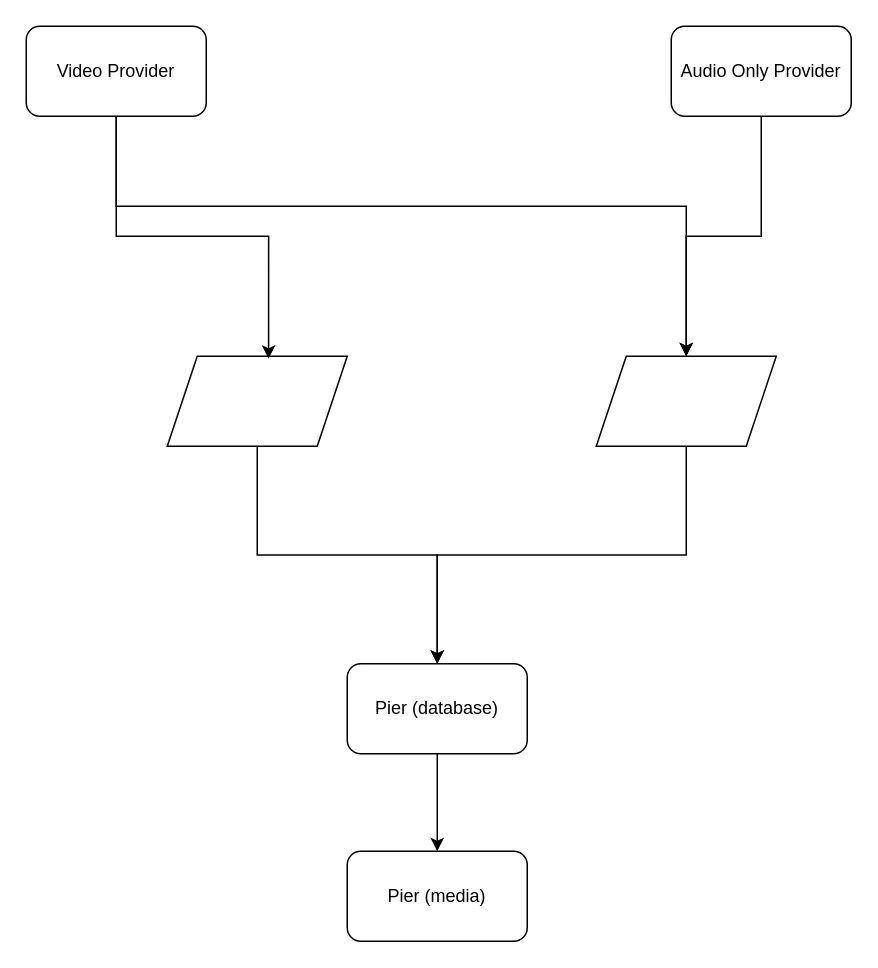
This 878x968 diagram has some shape labels left out. Each missing label, with the box of its shape:
download_audio (Pier): (595, 355, 776, 446)
download_video (Pier): (166, 355, 347, 446)
